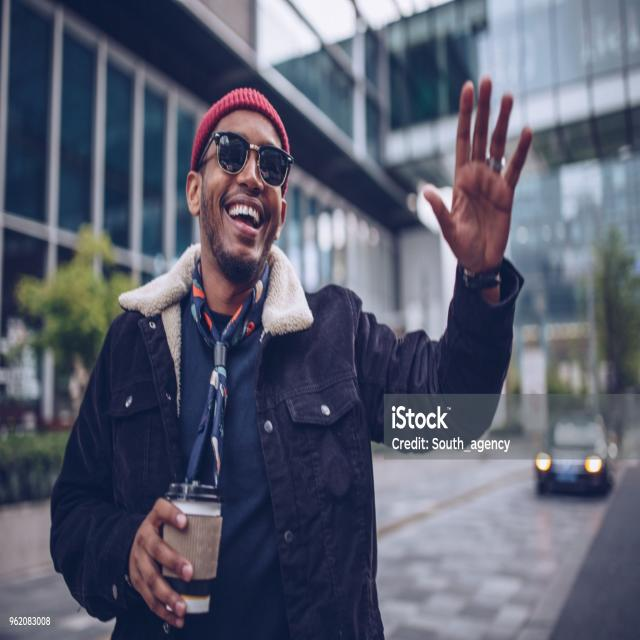cup: (161, 483, 222, 615)
